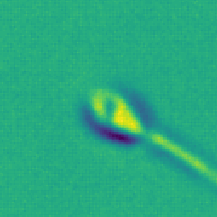normal: (144, 131, 217, 193)
